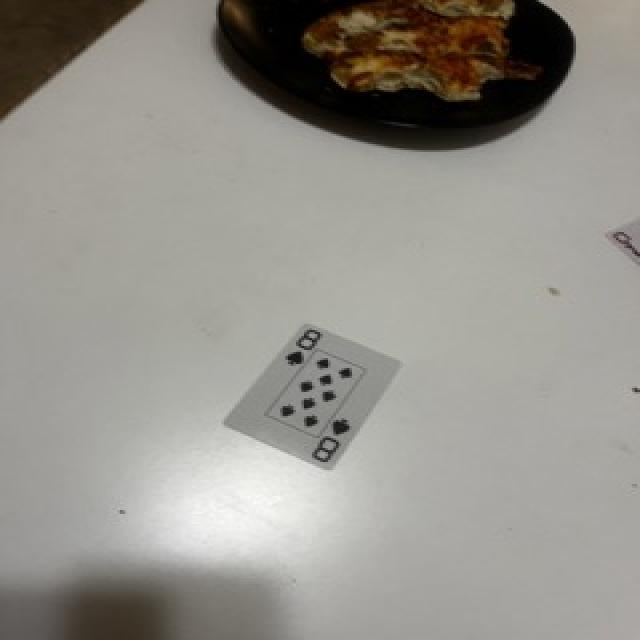8 of spades: (227, 325, 400, 469)
